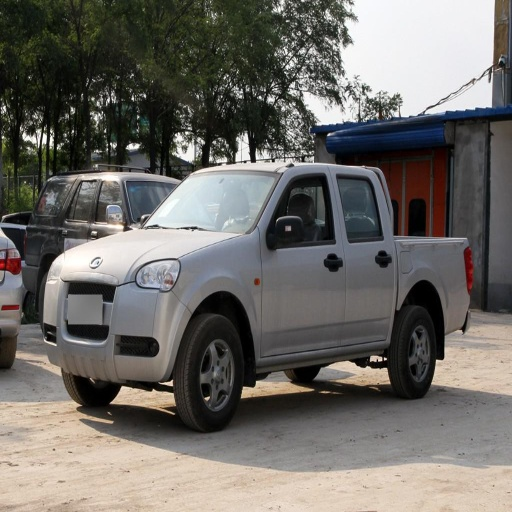back_left_door: (333, 171, 391, 339)
front_bumper: (50, 267, 190, 382)
front_glass: (147, 172, 278, 231)
front_left_door: (263, 171, 346, 354)
trunk: (393, 239, 468, 332)
